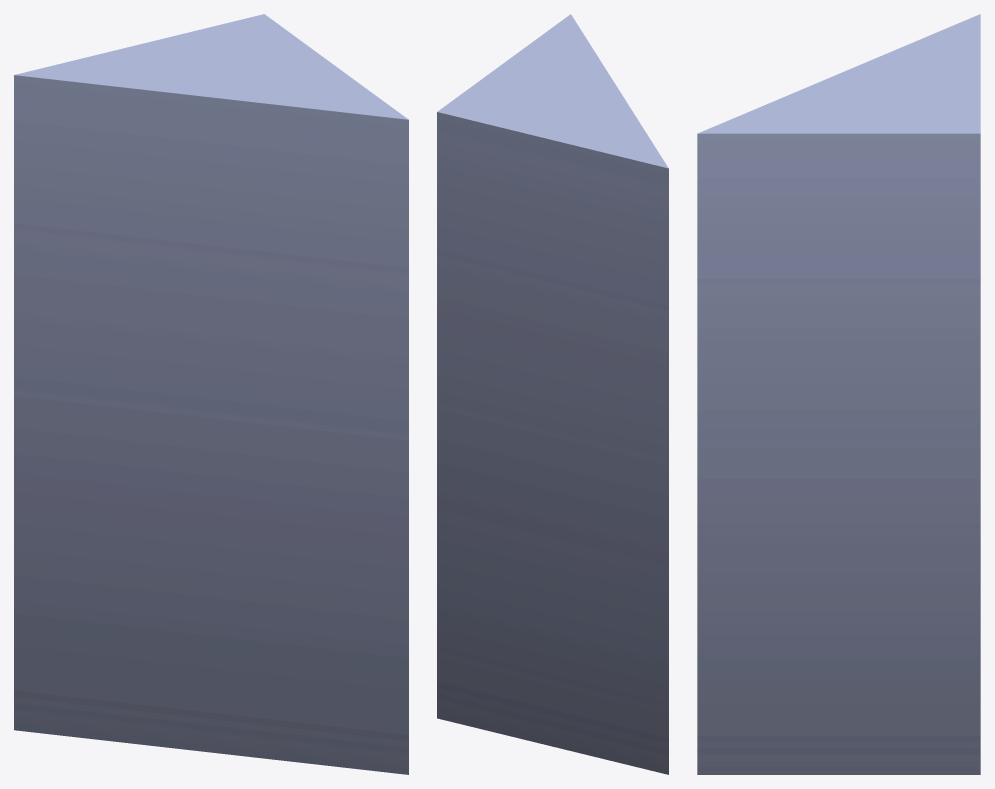
Rendered from column-triangle-low.glb.
3 renders of one model, left to right at view 1: azimuth 30°, elevation 25°; view 2: azimuth 150°, elevation 25°; view 3: azimuth 270°, elevation 25°, orthographic. The views are drawn at different scales.
Visible parts, largest first — view 1: column-triangle-low; view 2: column-triangle-low; view 3: column-triangle-low.
Boxes of the visible parts, x1,y1,x2,y2 form: column-triangle-low: (14,14,408,774); column-triangle-low: (437,14,668,774); column-triangle-low: (697,14,980,774).
Bounding box in the file's own units: 0.2 × 0.5 × 0.2.
Materials: 1 (1 with a texture image).
